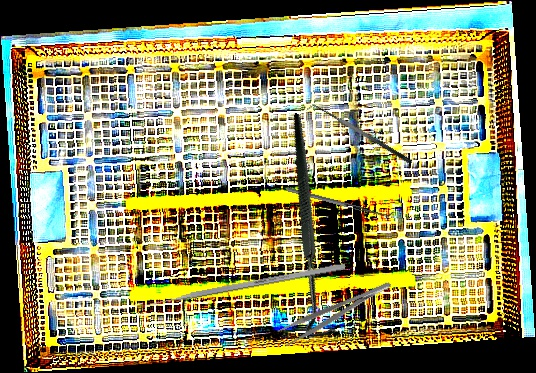Dressing Forceps: (276, 278, 397, 349)
Hook Surgical: (218, 113, 408, 343)
Pusher: (135, 262, 346, 311)
Spatula Surgical: (305, 98, 414, 173), (286, 183, 396, 220)
